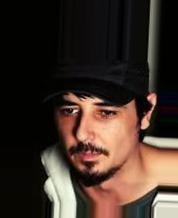face: (59, 100, 115, 164)
